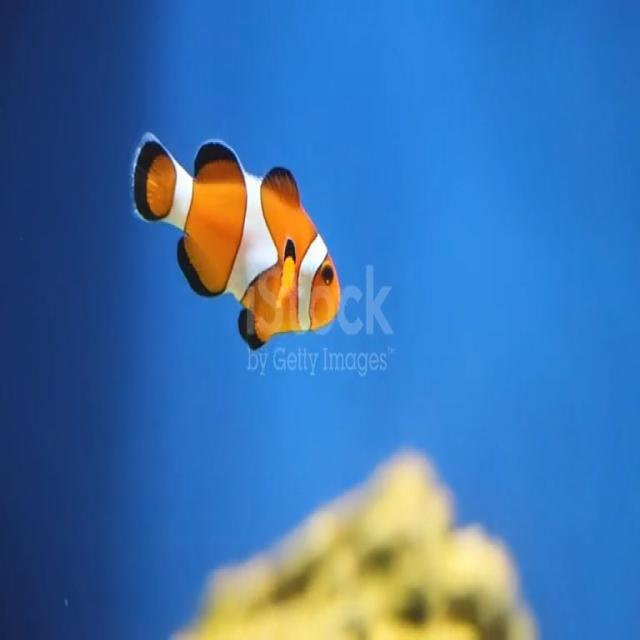fish: (130, 124, 342, 350)
